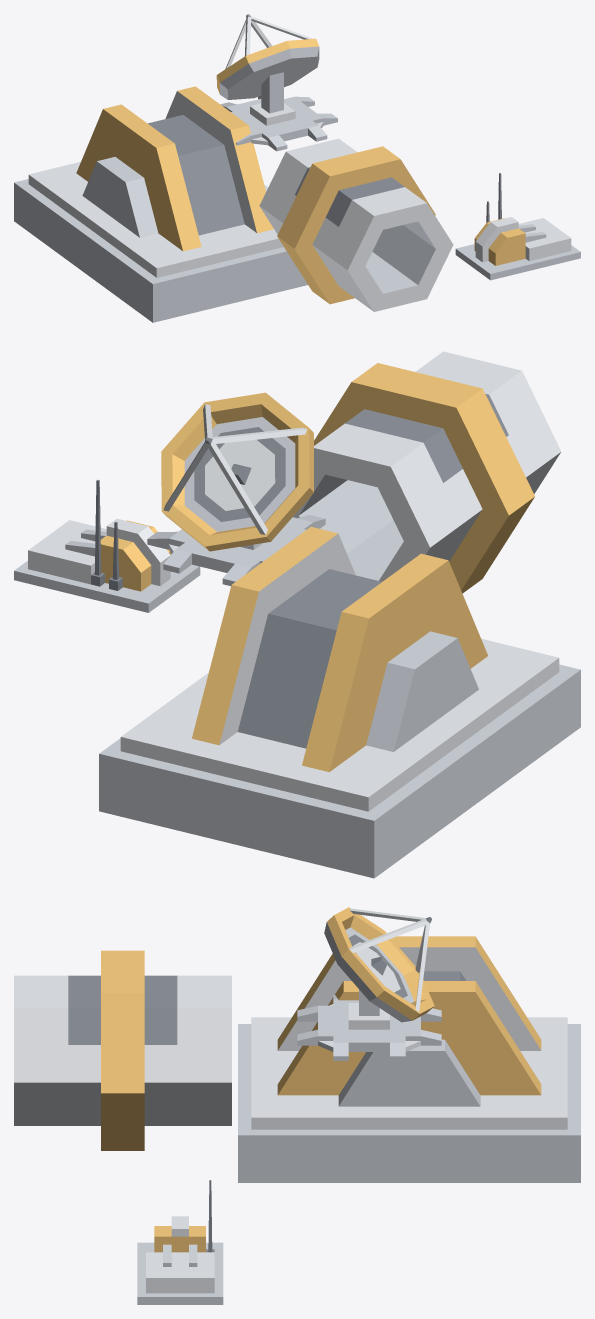
Rendered from rtg_lvl3.glb.
3 renders of one model, top to bottom at view 1: azimuth 30°, elevation 25°; view 2: azimuth 150°, elevation 25°; view 3: azimuth 270°, elevation 25°, orthographic. The views are drawn at different scales.
Visible parts, largest first — view 1: machine_generatorLarge.001, pipe_ring.001, satelliteDish_detailed.001, machine_wireless.001; view 2: machine_generatorLarge.001, pipe_ring.001, satelliteDish_detailed.001, machine_wireless.001; view 3: machine_generatorLarge.001, pipe_ring.001, satelliteDish_detailed.001, machine_wireless.001.
Boxes of the visible parts, x1,y1,x2,y2 form: machine_generatorLarge.001: (14,86,307,322); pipe_ring.001: (259,138,453,311); satelliteDish_detailed.001: (216,14,337,151); machine_wireless.001: (455,173,580,280); machine_generatorLarge.001: (99,527,580,878); pipe_ring.001: (293,351,561,593); satelliteDish_detailed.001: (147,392,325,585); machine_wireless.001: (14,479,200,612); machine_generatorLarge.001: (238,936,580,1182); pipe_ring.001: (14,950,231,1150); satelliteDish_detailed.001: (297,907,441,1060); machine_wireless.001: (137,1180,223,1304).
Size of the model in its own units: 2.41 by 1.25 by 2.47.
